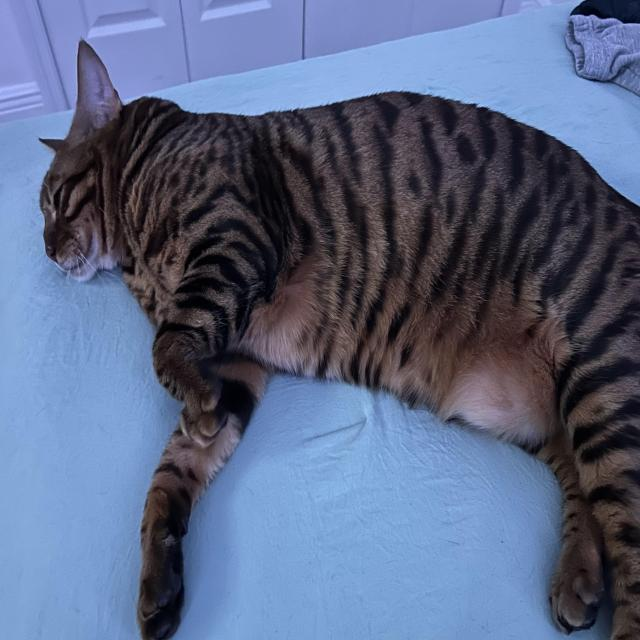Toyger: (35, 35, 640, 640)
